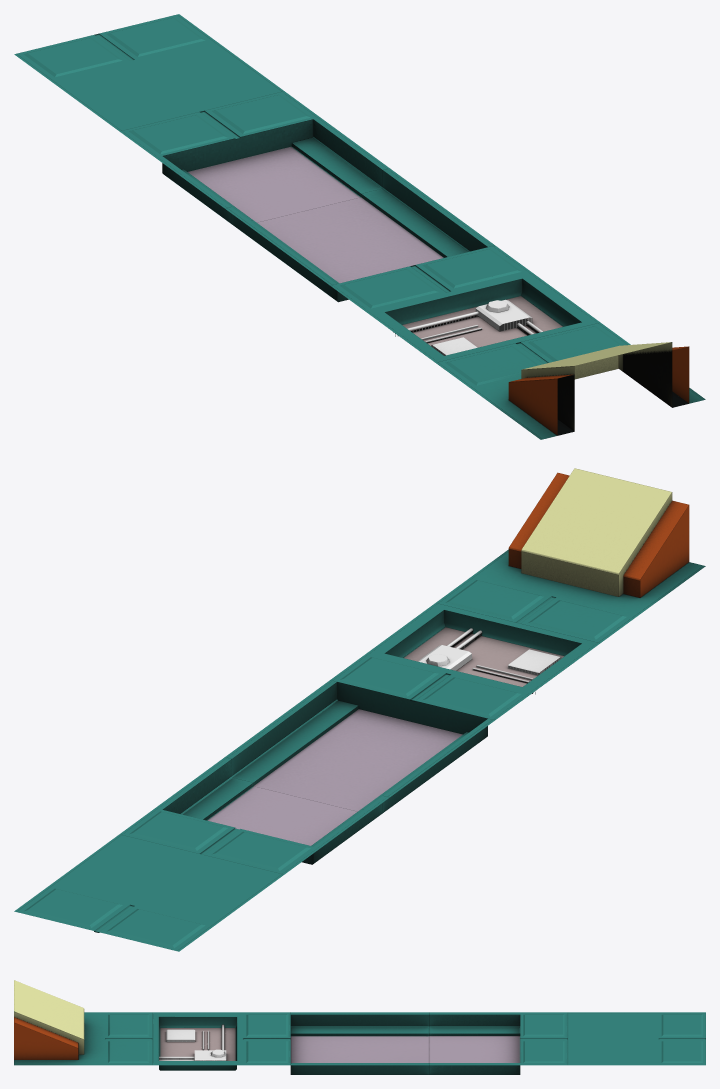
The model's file is sc_lvl1_floortile_19.FBX.
3 renders of one model, top to bottom at view 1: azimuth 30°, elevation 25°; view 2: azimuth 150°, elevation 25°; view 3: azimuth 270°, elevation 25°, orthographic. The views are drawn at different scales.
Parts seen in each view (by area): view 1: sc_lvl1_floortile_19; view 2: sc_lvl1_floortile_19; view 3: sc_lvl1_floortile_19.
Boxes of the visible parts, x1,y1,x2,y2 form: sc_lvl1_floortile_19: (14,14,705,439); sc_lvl1_floortile_19: (14,468,705,951); sc_lvl1_floortile_19: (14,980,705,1074).
Bounding box in the file's own units: 18.1 × 9.2 × 100.
